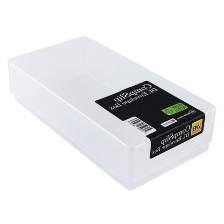plastic_box: (1, 29, 222, 196)
